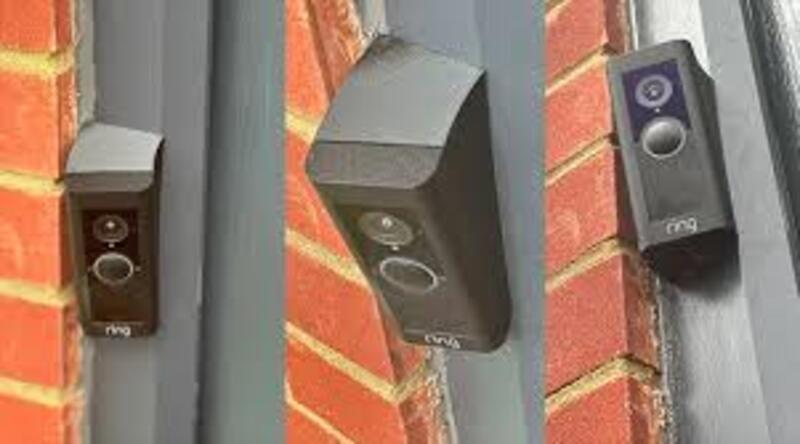doorbell: (311, 147, 493, 360), (606, 49, 718, 256), (69, 170, 152, 343)
